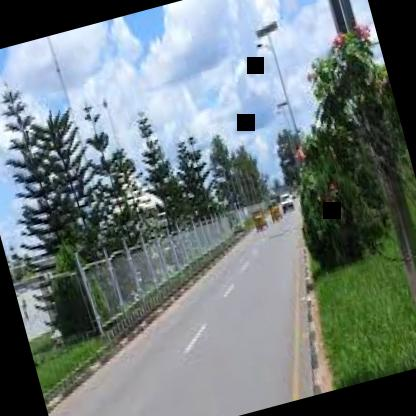car: (276, 187, 298, 218)
